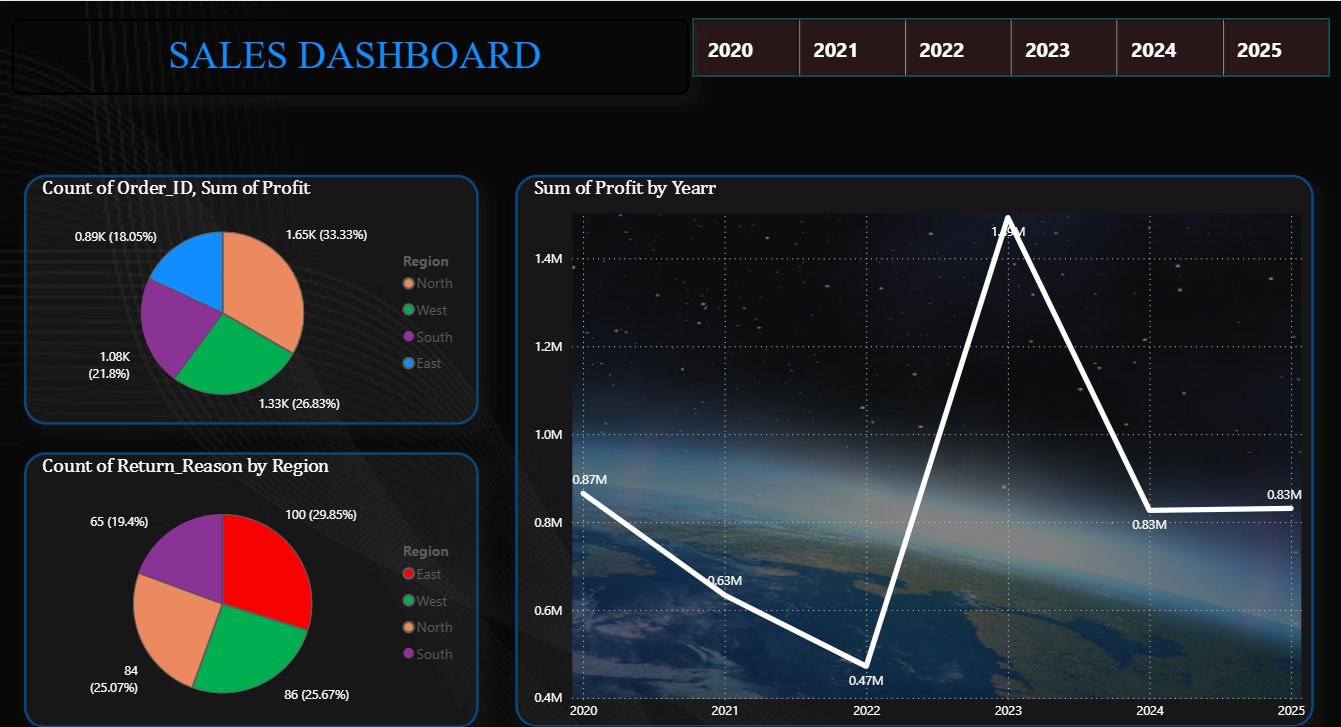

The dashboard page shown, as its layout file describes it:
{"tool":"powerbi","page":{"name":"Page 2","canvas":[1280,720],"ordinal":1},"visuals":[{"type":"lineChart","fields":{"Category":["Date.Yearr"],"Y":["Sum(sales_project mainsales2.Profit)"]},"box":[492.5,166.2,761.2,527.5],"z":0},{"type":"pieChart","title":"Count of Order_ID, Sum of Profit ","fields":{"Category":["sales_project mainsales2.Region"],"Y":["CountNonNull(sales_project mainsales2.Order_ID)"]},"box":[23.8,166.2,433.8,238.8],"z":1000},{"type":"pieChart","fields":{"Category":["sales_project mainsales2.Region"],"Y":["CountNonNull(sales_project mainsales2.Return_Reason)"]},"box":[23.8,430,433.8,263.8],"z":2000},{"type":"advancedSlicerVisual","fields":{"Values":["Date.Yearr"]},"box":[657,11.4,623,65.7],"z":3000},{"type":"textbox","box":[11.9,16.7,646.1,72.7],"z":4000}]}

Visuals, with their boxes on the page's 1280x720 design canvas (x1, y1, x2, y2). These are canvas units, not pixel positions in the 1341x727 screenshot, which may show the page scaled, cropped or inside an application window:
lineChart - Date.Yearr x Sum(sales_project mainsales2.Profit): rect(492, 166, 1254, 694)
"Count of Order_ID, Sum of Profit " pieChart: rect(24, 166, 458, 405)
pieChart - sales_project mainsales2.Region x CountNonNull(sales_project mainsales2.Return_Reason): rect(24, 430, 458, 694)
advancedSlicerVisual - Date.Yearr: rect(657, 11, 1280, 77)
textbox: rect(12, 17, 658, 89)
